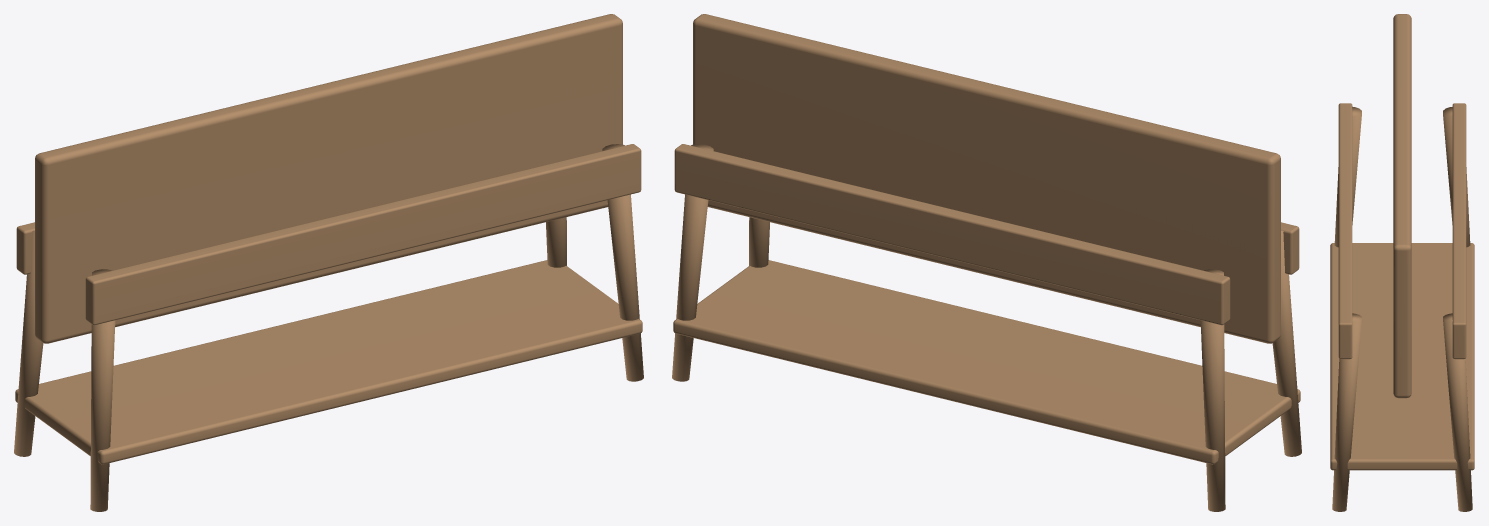
File: atelier-console-table.glb
The picture shows the model from 3 angles, left to right: view 1: azimuth 30°, elevation 25°; view 2: azimuth 150°, elevation 25°; view 3: azimuth 270°, elevation 25°; orthographic projection. The views are drawn at different scales.
Parts seen in each view (by area): view 1: legs.056; view 2: legs.056; view 3: legs.056.
Part boxes in pixels (box(x1,y1,x2,y2)): legs.056: box(14, 14, 643, 511); legs.056: box(672, 14, 1301, 511); legs.056: box(1330, 14, 1474, 511).
Size of the model in its own units: 1.8 by 0.9771 by 0.47.
